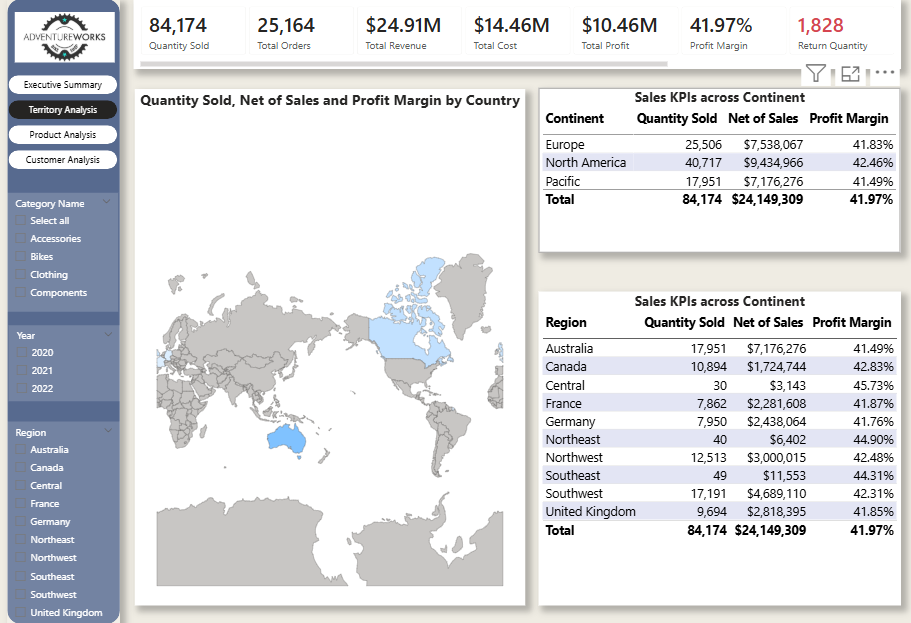

The dashboard page shown, as its layout file describes it:
{"tool":"powerbi","page":{"name":"Territory Analysis","canvas":[1480,1000],"ordinal":2},"visuals":[{"type":"cardVisual","fields":{"Data":["_Measures.Quantity Sold","_Measures.Total Orders","_Measures.Total Revenue","_Measures.Total Cost","_Measures.Profit","_Measures.Profit Margin","_Measures.Return Quantity","_Measures.Return Rate","_Measures.Net Profit","_Measures.Net of Sales"]},"box":[220,0,1196,112],"z":0},{"type":"shape","box":[17.6,0,180.4,1000],"z":1000},{"type":"image","box":[30,0,160,122.5],"z":2000},{"type":"slicer","fields":{"Values":["DimProduct Categories.Category Name"]},"box":[17.5,310,177.5,190],"z":3000},{"type":"slicer","fields":{"Values":["DimDate.Year"]},"box":[20,485,177.5,157.5],"z":4000},{"type":"slicer","fields":{"Values":["DimTerritory.Region"]},"box":[20,640,177.5,360],"z":5000},{"type":"shapeMap","fields":{"Category":["DimTerritory.Country"],"Value":["_Measures.Quantity Sold"]},"box":[222,144,616,826],"z":6000},{"type":"tableEx","title":"Sales KPIs across Continent","fields":{"Values":["DimTerritory.Continent","_Measures.Quantity Sold","_Measures.Net of Sales","_Measures.Profit Margin"]},"box":[868,142,548,264],"z":7000},{"type":"tableEx","title":"Sales KPIs across Continent","fields":{"Values":["DimTerritory.Region","_Measures.Quantity Sold","_Measures.Net of Sales","_Measures.Profit Margin"]},"box":[868,468,548,502],"z":8000},{"type":"pageNavigator","box":[20,122.9,174.3,151.4],"z":9000}]}

Visuals, with their boxes in screenshot pixels (x1, y1, x2, y2), scaled from the page's 1480x1000 canvas onto the 911x623 screenshot:
cardVisual - _Measures.Quantity Sold x _Measures.Total Orders: [135, 0, 872, 70]
shape: [11, 0, 122, 622]
image: [18, 0, 117, 76]
slicer - DimProduct Categories.Category Name: [11, 193, 120, 312]
slicer - DimDate.Year: [12, 302, 122, 400]
slicer - DimTerritory.Region: [12, 399, 122, 622]
shapeMap - DimTerritory.Country x _Measures.Quantity Sold: [137, 90, 516, 604]
"Sales KPIs across Continent" tableEx: [534, 88, 872, 253]
"Sales KPIs across Continent" tableEx: [534, 292, 872, 604]
pageNavigator: [12, 77, 120, 171]
